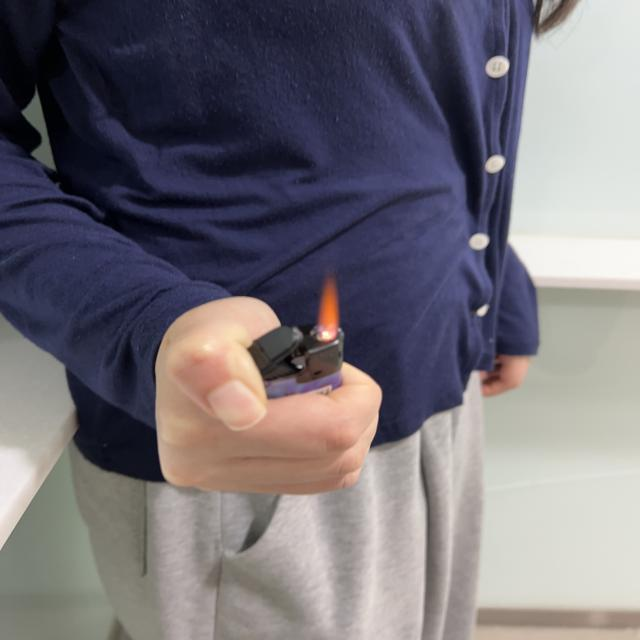fire: (312, 268, 340, 338)
